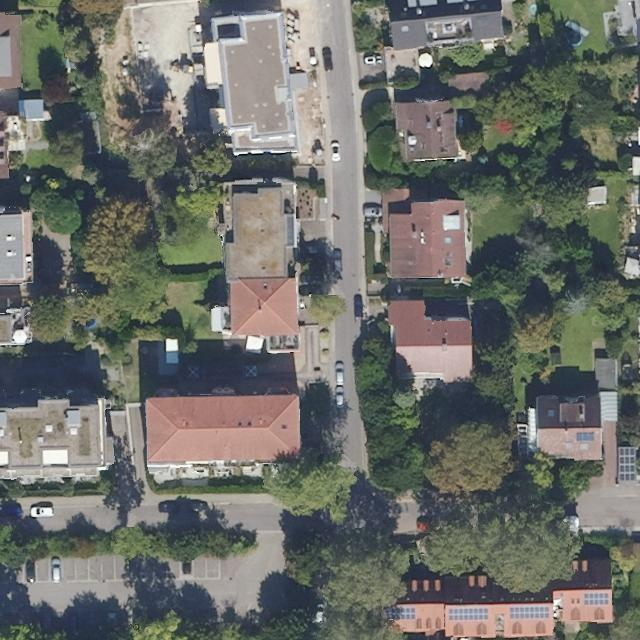PV: (446, 606, 488, 622), (509, 605, 552, 620), (385, 606, 416, 621), (576, 431, 596, 442)
